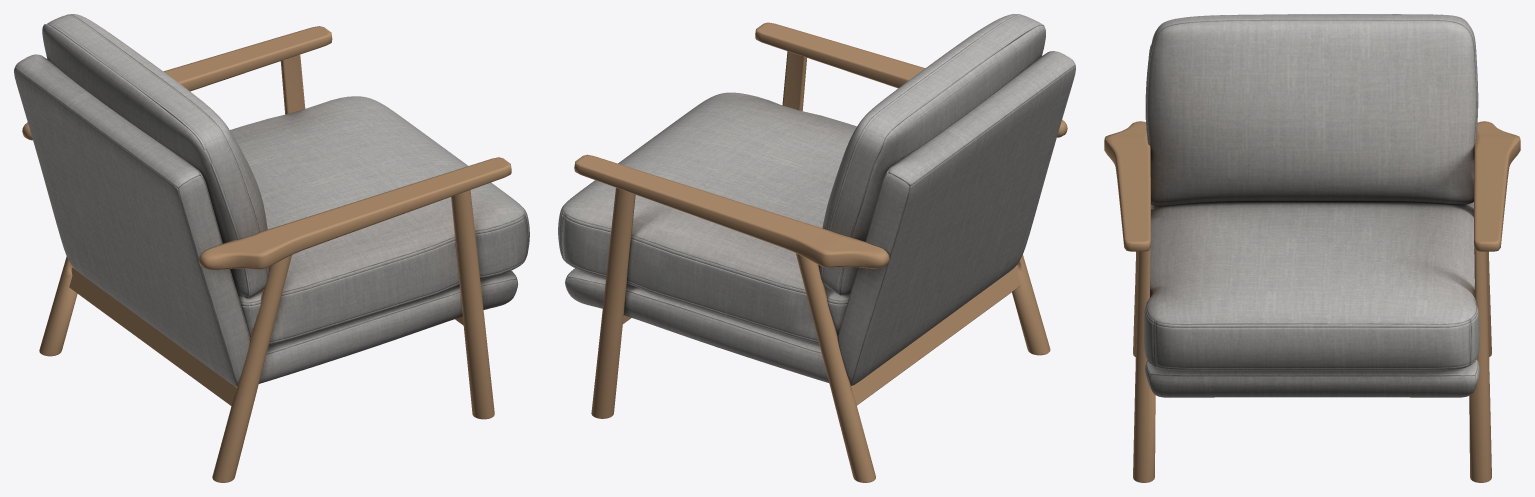
File: diorama2.glb
3 views of the same model, side by side, from view 1: azimuth 30°, elevation 25°; view 2: azimuth 150°, elevation 25°; view 3: azimuth 270°, elevation 25° (orthographic). The views are drawn at different scales.
Parts seen in each view (by area): view 1: Lars_Accent_Chair; view 2: Lars_Accent_Chair; view 3: Lars_Accent_Chair.
Part boxes in pixels (x1=…): Lars_Accent_Chair: x1=14, y1=14, x2=529, y2=482; Lars_Accent_Chair: x1=558, y1=14, x2=1075, y2=482; Lars_Accent_Chair: x1=1104, y1=14, x2=1520, y2=482.
Bounding box in the file's own units: 3.71 × 3.41 × 3.78.
Materials: 2 (1 with a texture image).
